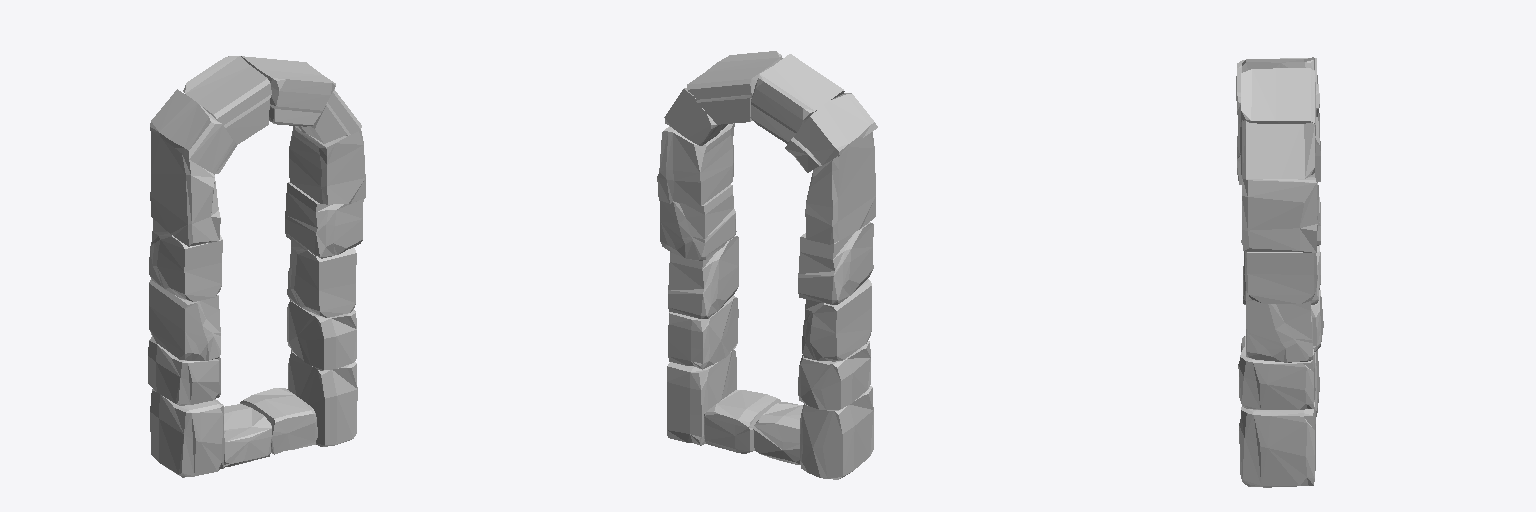
File: Window_Thin_Round_Rocks.obj
The picture shows the model from 3 angles: view 1: azimuth 30°, elevation 25°; view 2: azimuth 150°, elevation 25°; view 3: azimuth 270°, elevation 25°; orthographic projection.
Parts seen in each view (by area): view 1: Window_Thin_Round_Rocks; view 2: Window_Thin_Round_Rocks; view 3: Window_Thin_Round_Rocks.
Boxes of the visible parts, box(x1,y1,x2,y2) form: Window_Thin_Round_Rocks: box(148, 56, 365, 477); Window_Thin_Round_Rocks: box(657, 51, 877, 479); Window_Thin_Round_Rocks: box(1236, 57, 1323, 487).
Size of the model in its own units: 0.8449 by 1.68 by 0.348.